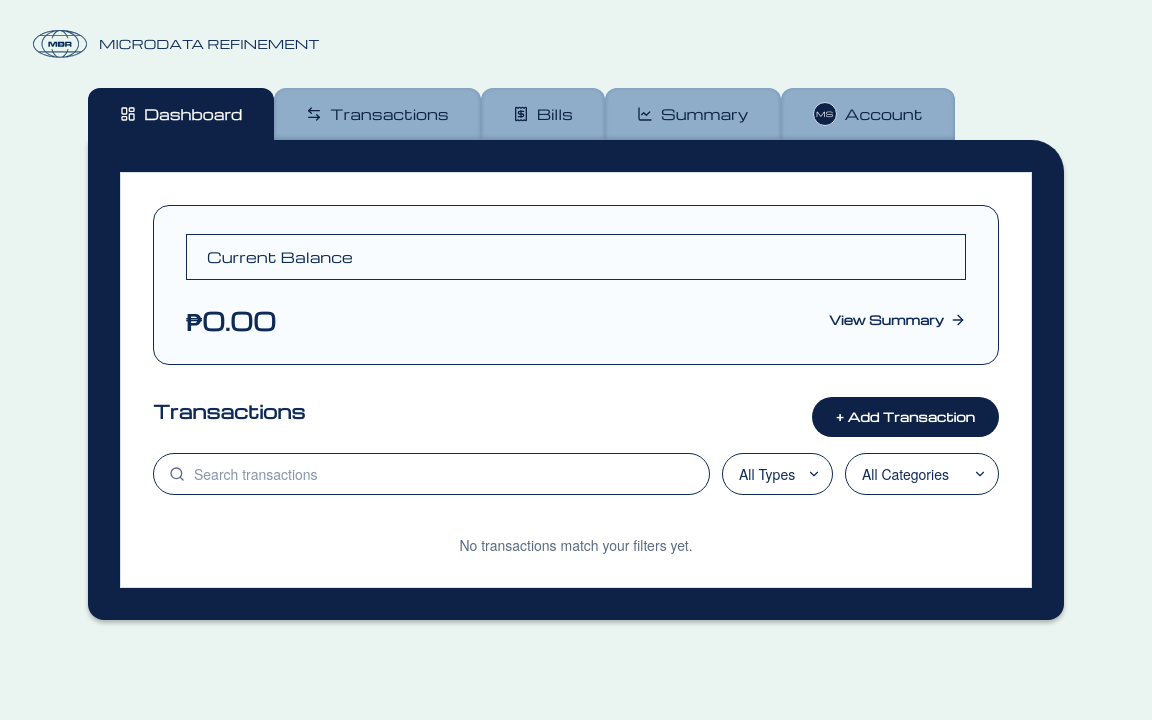
App navigation › moves to another page from a tab
Click the link "Bills" at (543, 114), box left=481, top=88, right=605, bottom=140
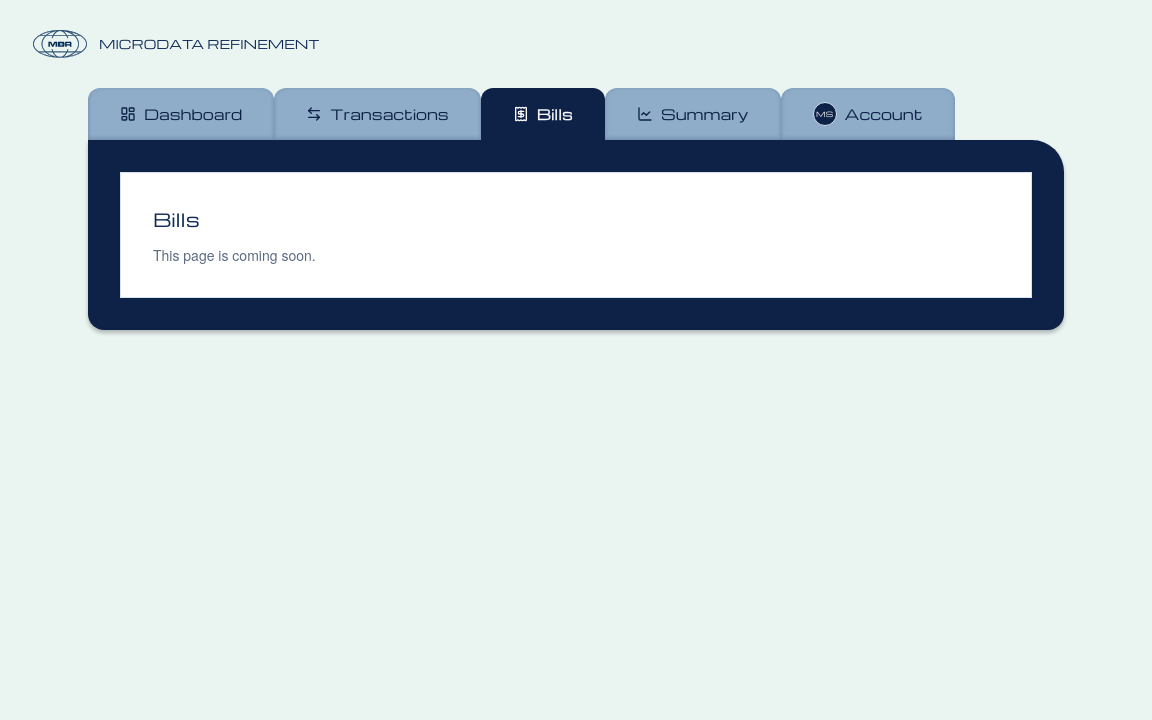
Expected: the heading "Bills" is shown, left=153, top=206, right=200, bottom=232
